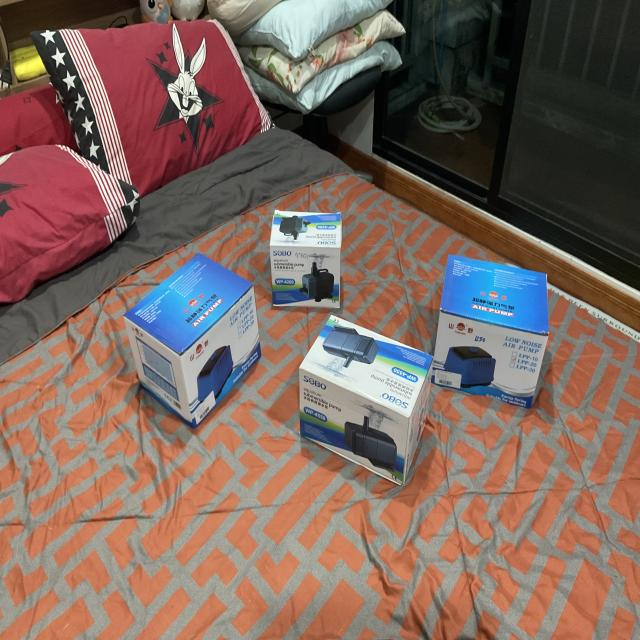SOBO_WP_4200: (297, 292, 440, 486), (250, 185, 348, 314)
YAMANO_LPP_20: (109, 233, 266, 452), (414, 248, 568, 412)
